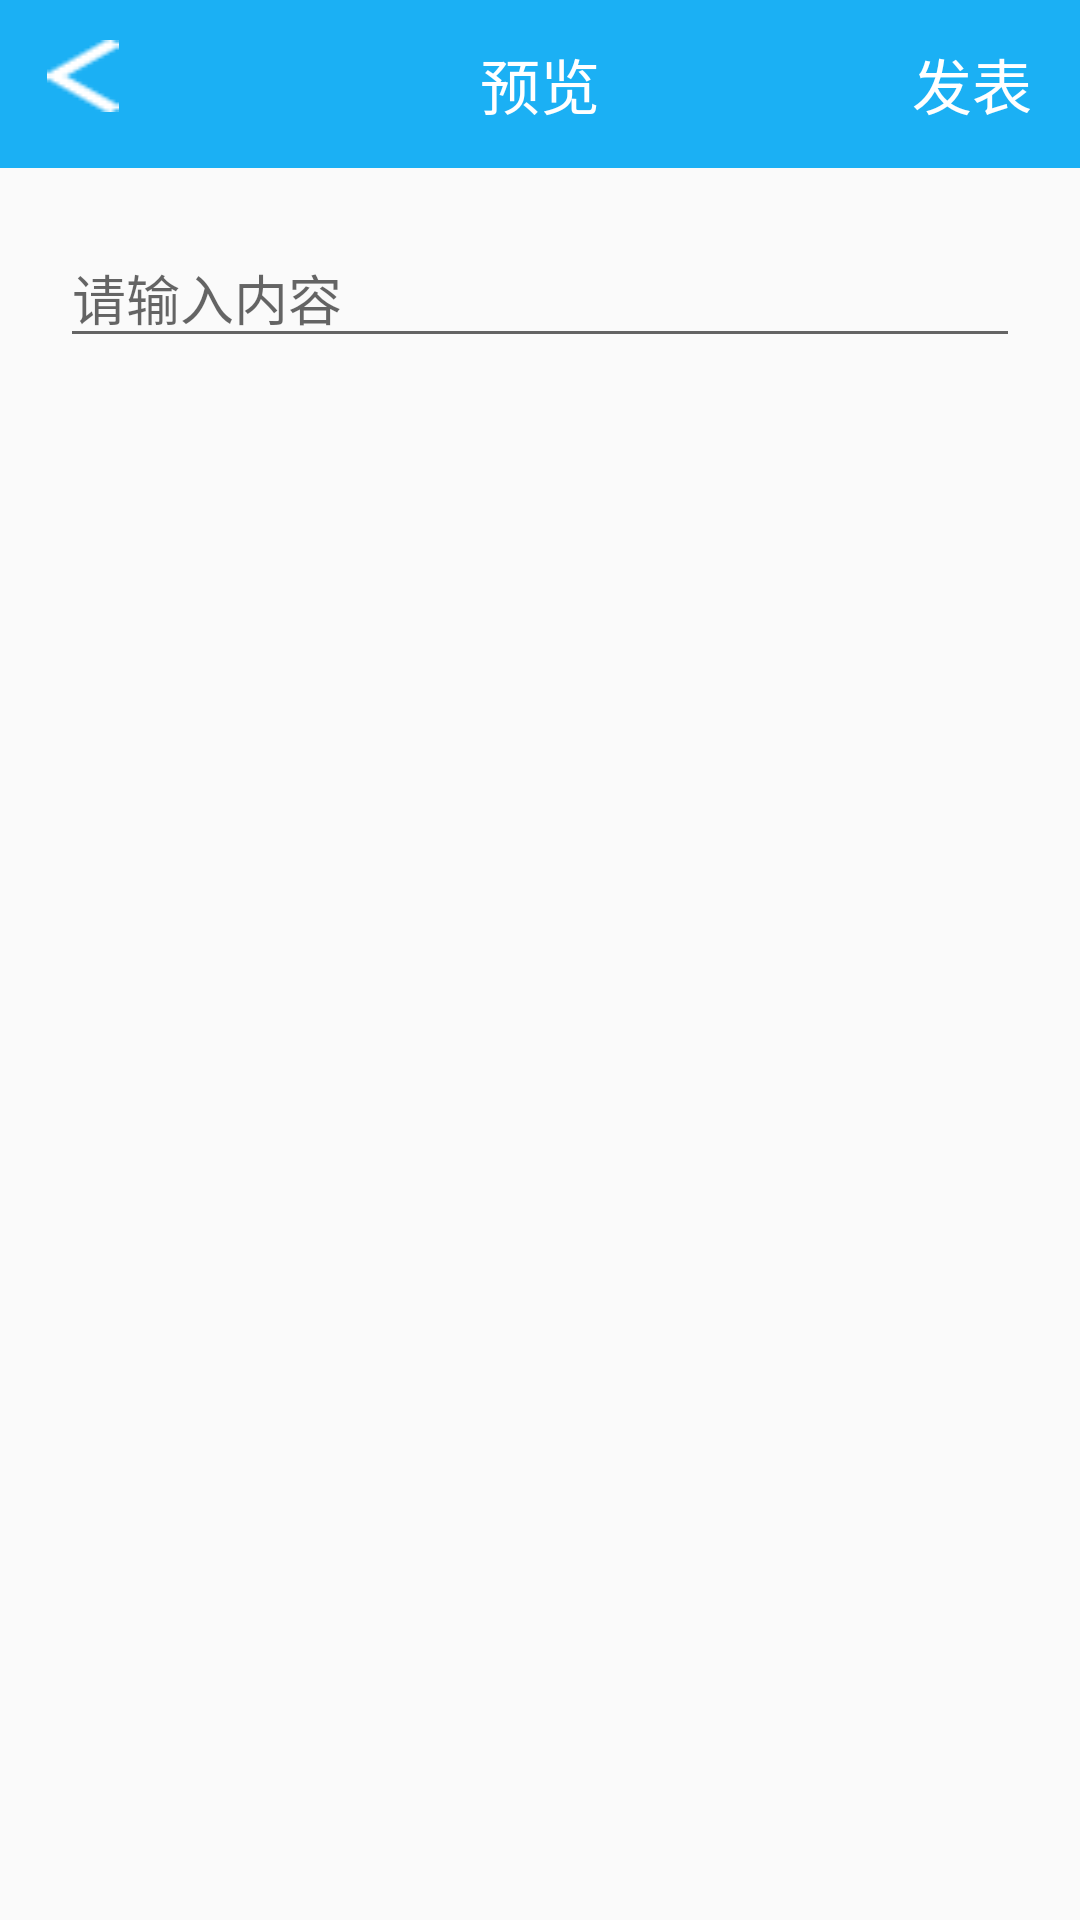

Point at icon controls on the screen. Image size 1080 × 1920, points as [x,y].
back: [83,76]
